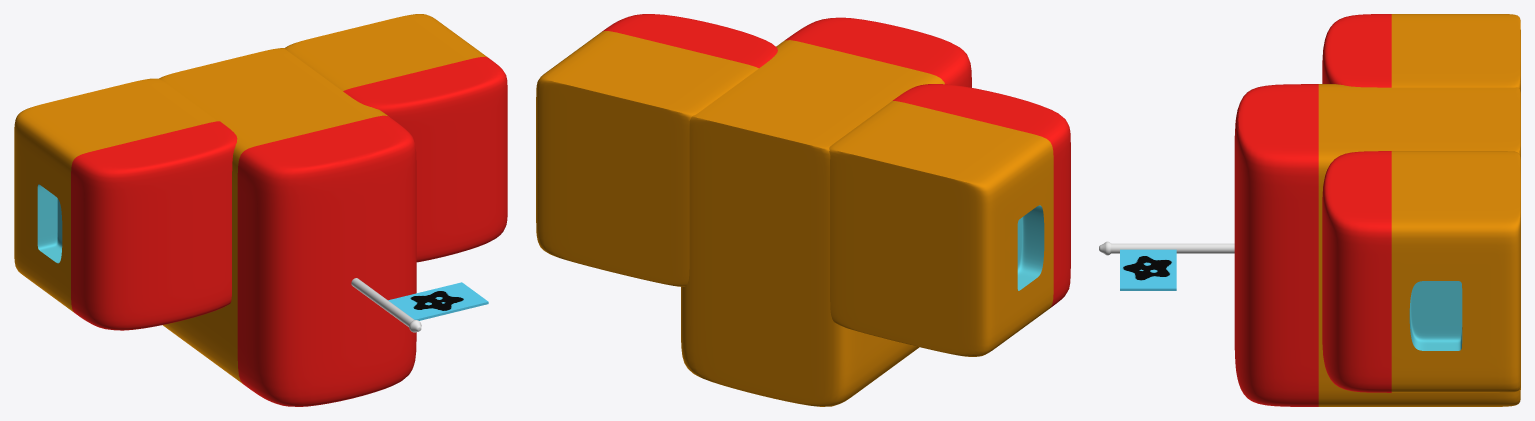
The model's file is SchoolProtista.fbx.
The picture shows the model from 3 angles, left to right: view 1: azimuth 30°, elevation 25°; view 2: azimuth 150°, elevation 25°; view 3: azimuth 270°, elevation 25°; orthographic projection. The views are drawn at different scales.
Parts seen in each view (by area): view 1: SubBase, Base, Flag, BaseFlag; view 2: SubBase, Base; view 3: SubBase, Base, Flag, BaseFlag.
Part boxes in pixels (x1=…): SubBase: x1=14, y1=14, x2=507, y2=330; Base: x1=159, y1=48, x2=416, y2=406; Flag: x1=388, y1=282, x2=488, y2=320; BaseFlag: x1=351, y1=278, x2=421, y2=332; SubBase: x1=536, y1=14, x2=1070, y2=356; Base: x1=681, y1=17, x2=971, y2=406; SubBase: x1=1322, y1=14, x2=1520, y2=392; Base: x1=1234, y1=84, x2=1520, y2=406; Flag: x1=1120, y1=249, x2=1176, y2=290; BaseFlag: x1=1099, y1=241, x2=1234, y2=255.
Size of the model in its own units: 538 by 309 by 440.
Materials: 8 (1 with a texture image).
